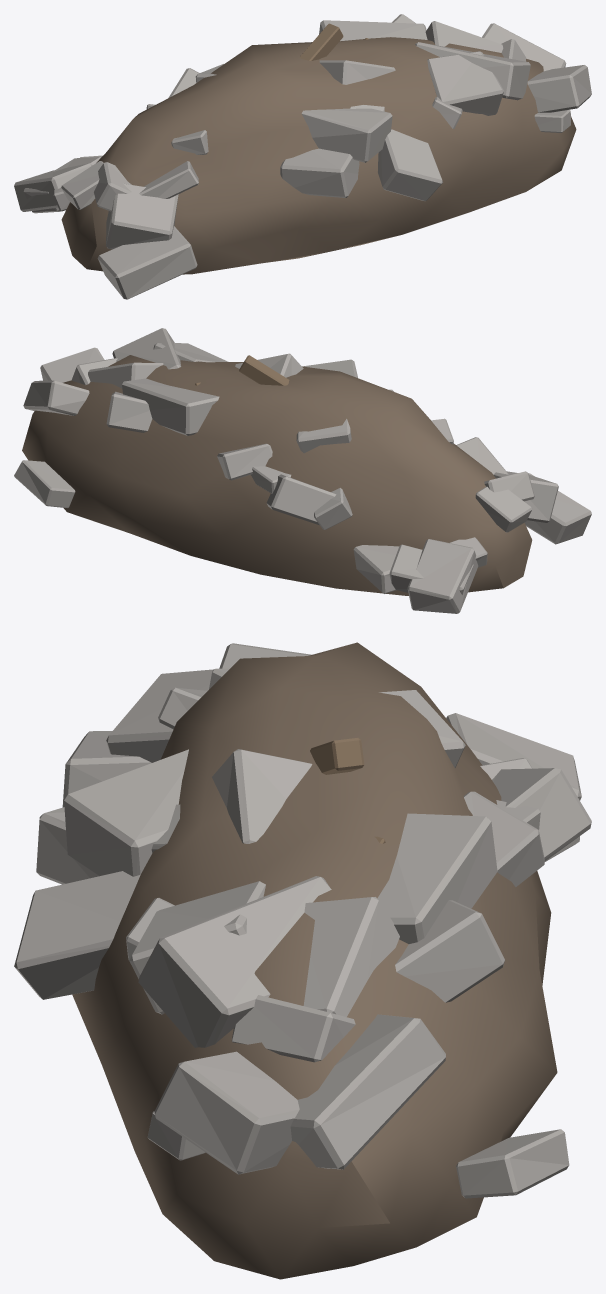
Rendered from rubble_large.glb.
3 renders of one model, top to bottom at view 1: azimuth 30°, elevation 25°; view 2: azimuth 150°, elevation 25°; view 3: azimuth 270°, elevation 25°, orthographic. The views are drawn at different scales.
Visible parts, largest first — view 1: earth, stone, wood; view 2: earth, stone, wood; view 3: earth, stone, wood.
Boxes of the visible parts, x1,y1,x2,y2 form: earth: [61, 37, 576, 274]; stone: [14, 14, 591, 299]; wood: [299, 23, 368, 60]; earth: [22, 355, 532, 595]; stone: [14, 328, 591, 613]; wood: [195, 355, 289, 385]; earth: [72, 642, 557, 1279]; stone: [14, 643, 591, 1198]; wood: [310, 738, 385, 843].
Bounding box in the file's own units: 7.69 × 2.4 × 3.78.
